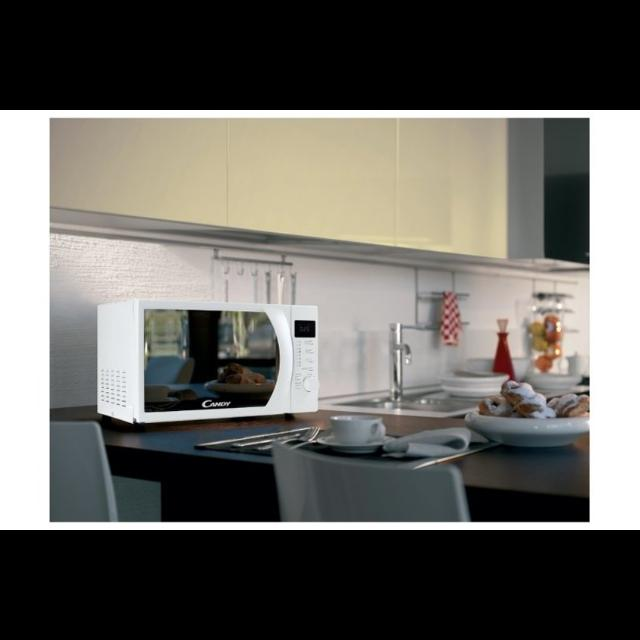Microwave: (93, 299, 323, 426)
